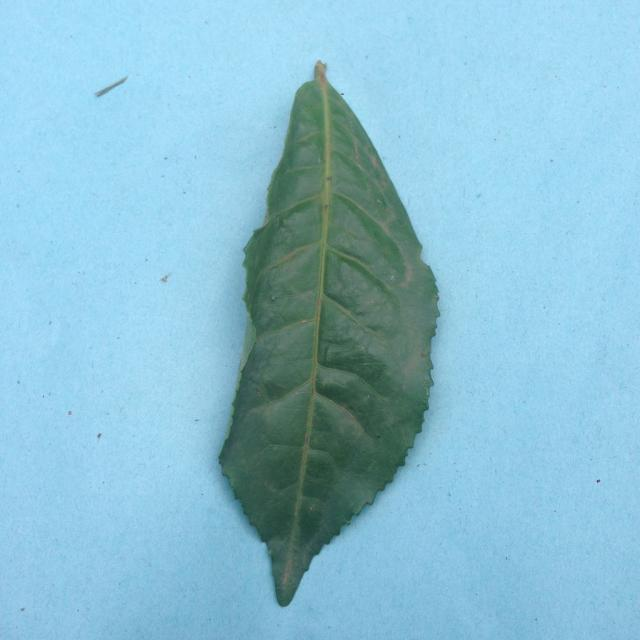Healthy: (182, 36, 457, 596)
